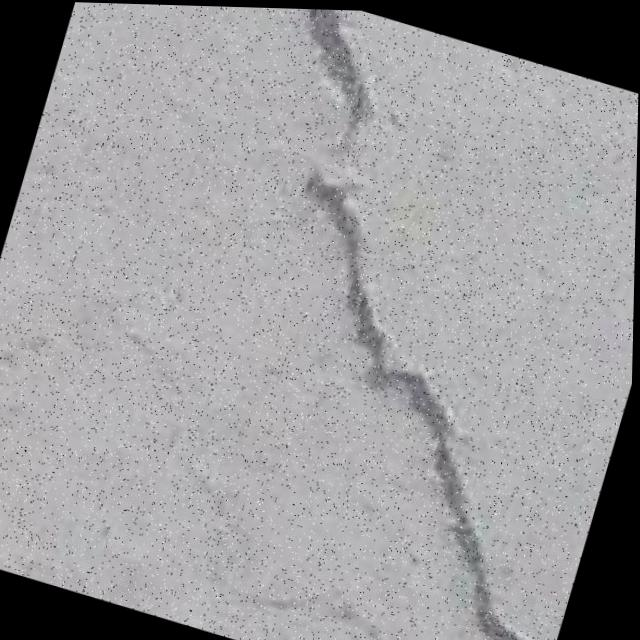Crack: (130, 3, 640, 640)
